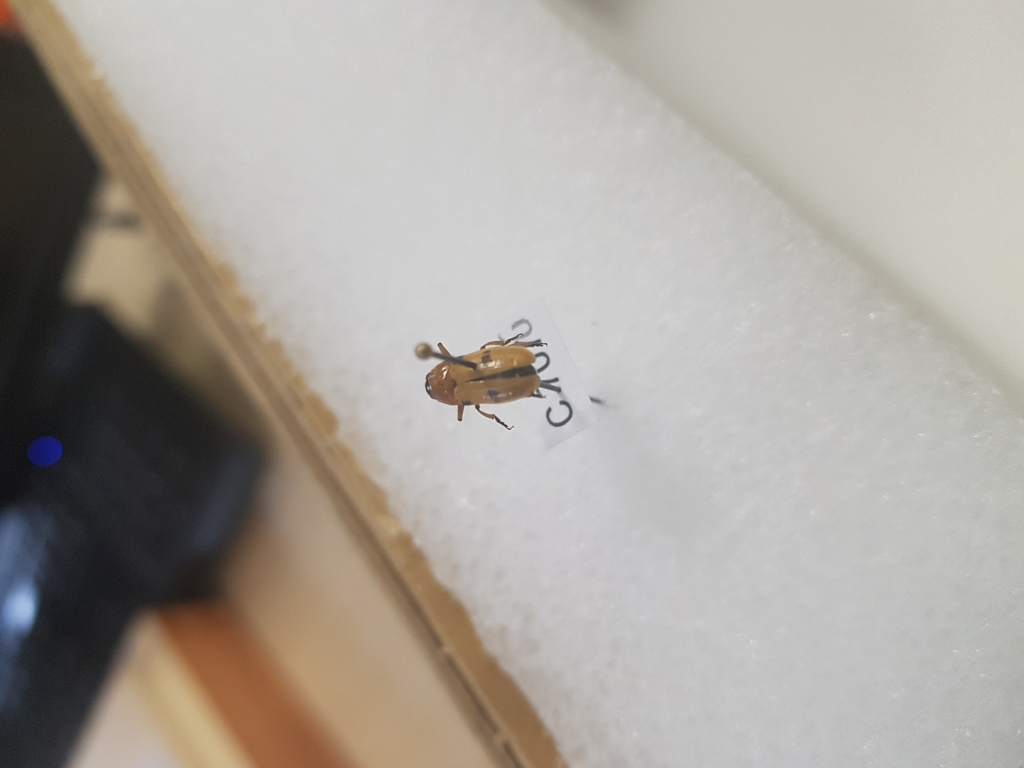Tituboea_macropus: (423, 339, 553, 434)
